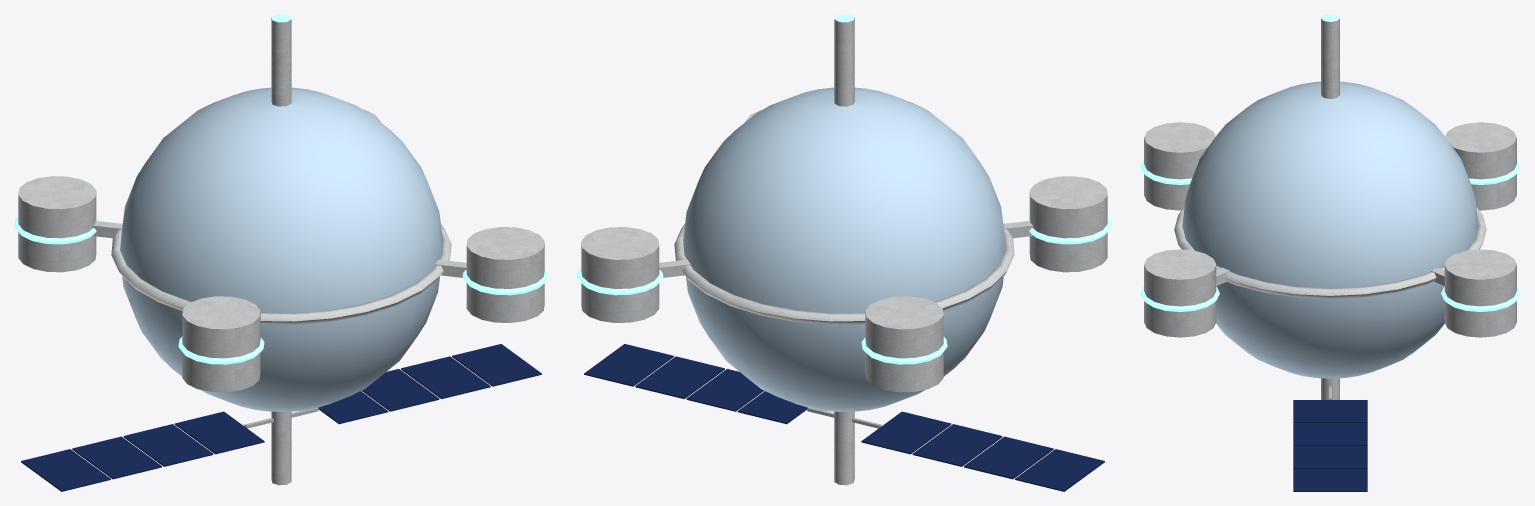
The model's file is orbital_garden_station.glb.
3 views of the same model, side by side, from view 1: azimuth 30°, elevation 25°; view 2: azimuth 150°, elevation 25°; view 3: azimuth 270°, elevation 25° (orthographic). The views are drawn at different scales.
Parts seen in each view (by area): view 1: orbital_garden_station_LOD0; view 2: orbital_garden_station_LOD0; view 3: orbital_garden_station_LOD0.
Part boxes in pixels (box(x1,y1,x2,y2)): orbital_garden_station_LOD0: box(14, 14, 548, 491); orbital_garden_station_LOD0: box(577, 14, 1111, 491); orbital_garden_station_LOD0: box(1140, 14, 1520, 491).
Size of what is drawn, in the model's own units: 47.8 by 44 by 35.78.
Materials: 4 (3 with a texture image).
